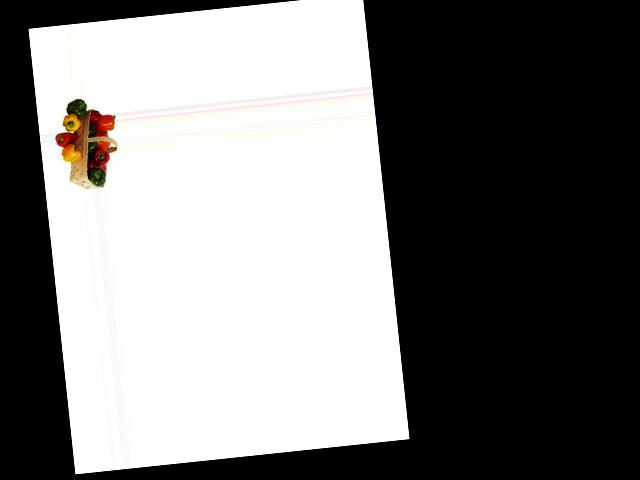bell_pepper: (88, 165, 107, 186)
